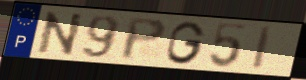5: (208, 21, 252, 70)
9: (80, 14, 125, 59)
G: (165, 20, 208, 66)
I: (250, 26, 276, 72)
N: (35, 11, 86, 58)
P: (120, 17, 169, 63)
